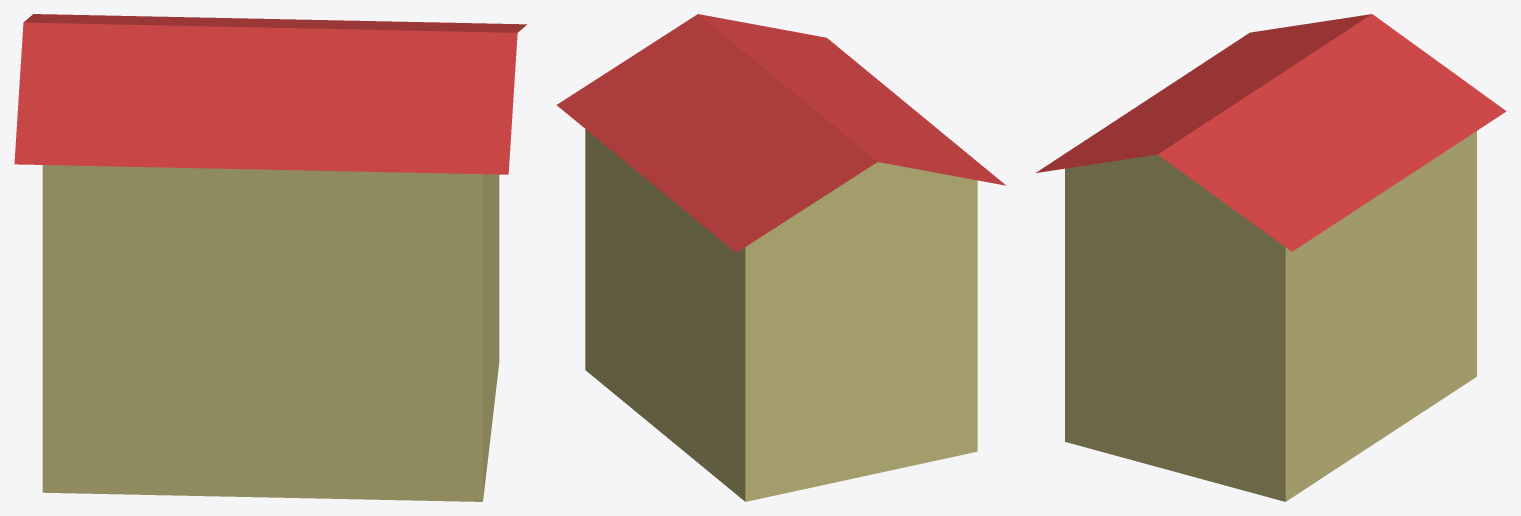
The picture shows the model from 3 angles, left to right: view 1: azimuth 30°, elevation 25°; view 2: azimuth 150°, elevation 25°; view 3: azimuth 270°, elevation 25°; orthographic projection. The views are drawn at different scales.
Bounding box in the file's own units: 17.29 × 16.36 × 12.38.
